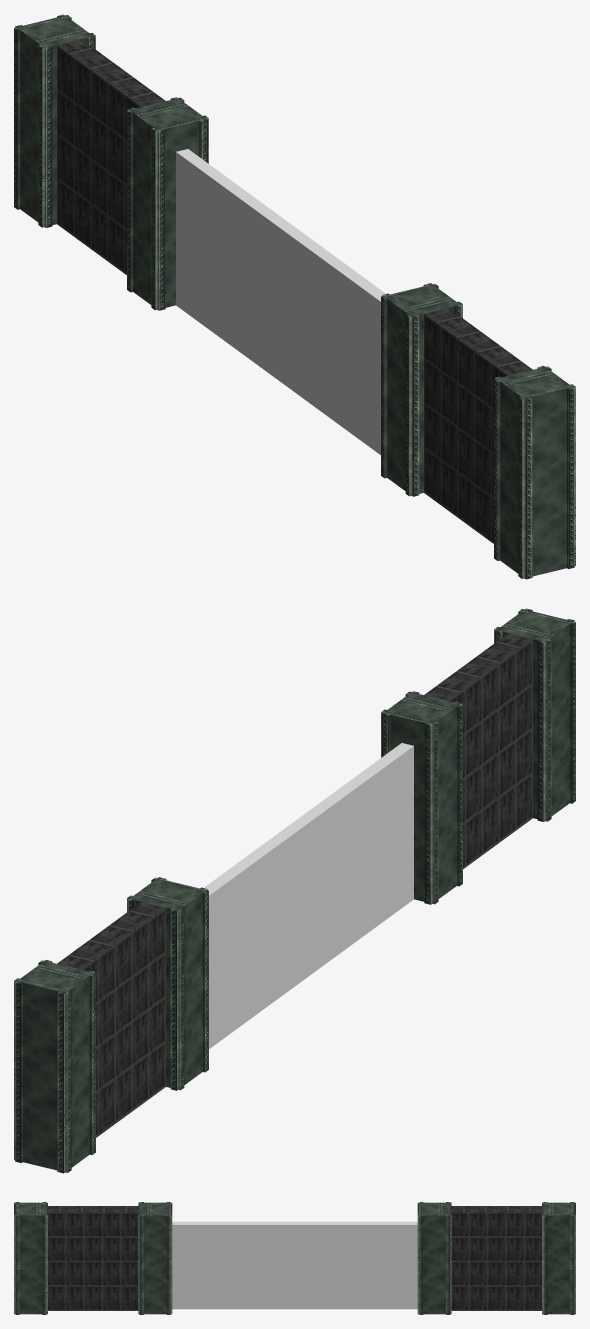
Rendered from gate.glb.
The picture shows the model from 3 angles, top to bottom: view 1: azimuth 30°, elevation 25°; view 2: azimuth 150°, elevation 25°; view 3: azimuth 270°, elevation 25°; orthographic projection. The views are drawn at different scales.
Parts seen in each view (by area): view 1: Cube, Cube.001, Cube.002; view 2: Cube, Cube.002, Cube.001; view 3: Cube, Cube.001, Cube.002.
Part boxes in pixels (x1=…): Cube: x1=14, y1=14, x2=575, y2=579; Cube.001: x1=176, y1=149, x2=300, y2=387; Cube.002: x1=289, y1=231, x2=385, y2=454; Cube: x1=14, y1=608, x2=575, y2=1173; Cube.002: x1=289, y1=743, x2=413, y2=981; Cube.001: x1=204, y1=825, x2=300, y2=1048; Cube: x1=14, y1=1202, x2=575, y2=1314; Cube.001: x1=295, y1=1221, x2=417, y2=1309; Cube.002: x1=172, y1=1221, x2=294, y2=1309.
Bounding box in the file's own units: 2.2 × 7 × 36.2.
2 materials, 2 textured.
